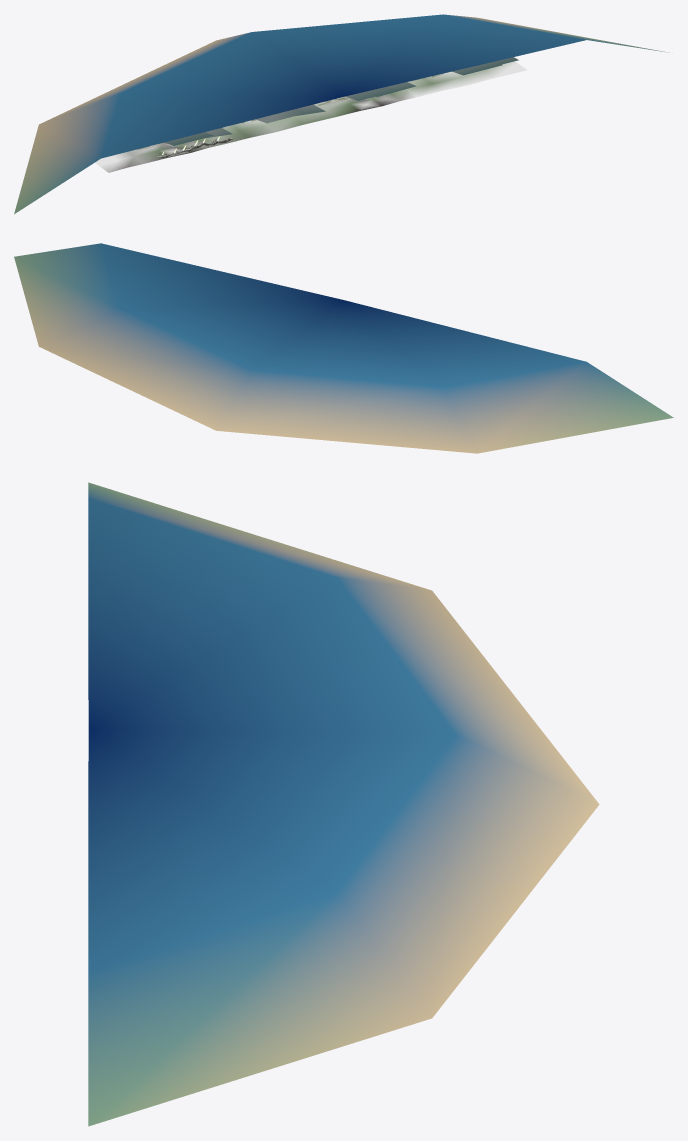
Rendered from Forest_14.fbx.
The picture shows the model from 3 angles, top to bottom: view 1: azimuth 30°, elevation 25°; view 2: azimuth 150°, elevation 25°; view 3: azimuth 270°, elevation 25°; orthographic projection. The views are drawn at different scales.
Visible parts, largest first — view 1: Light_01, Bg_01_A2, Bg_01_A; view 2: Light_01; view 3: Light_01.
Boxes of the visible parts, box(x1,y1,x2,y2) form: Light_01: box(14, 14, 668, 214); Bg_01_A2: box(95, 61, 526, 172); Bg_01_A: box(164, 57, 518, 145); Light_01: box(14, 243, 673, 453); Light_01: box(88, 482, 599, 1126).
Bounding box in the file's own units: 8566 × 462 × 2873.
